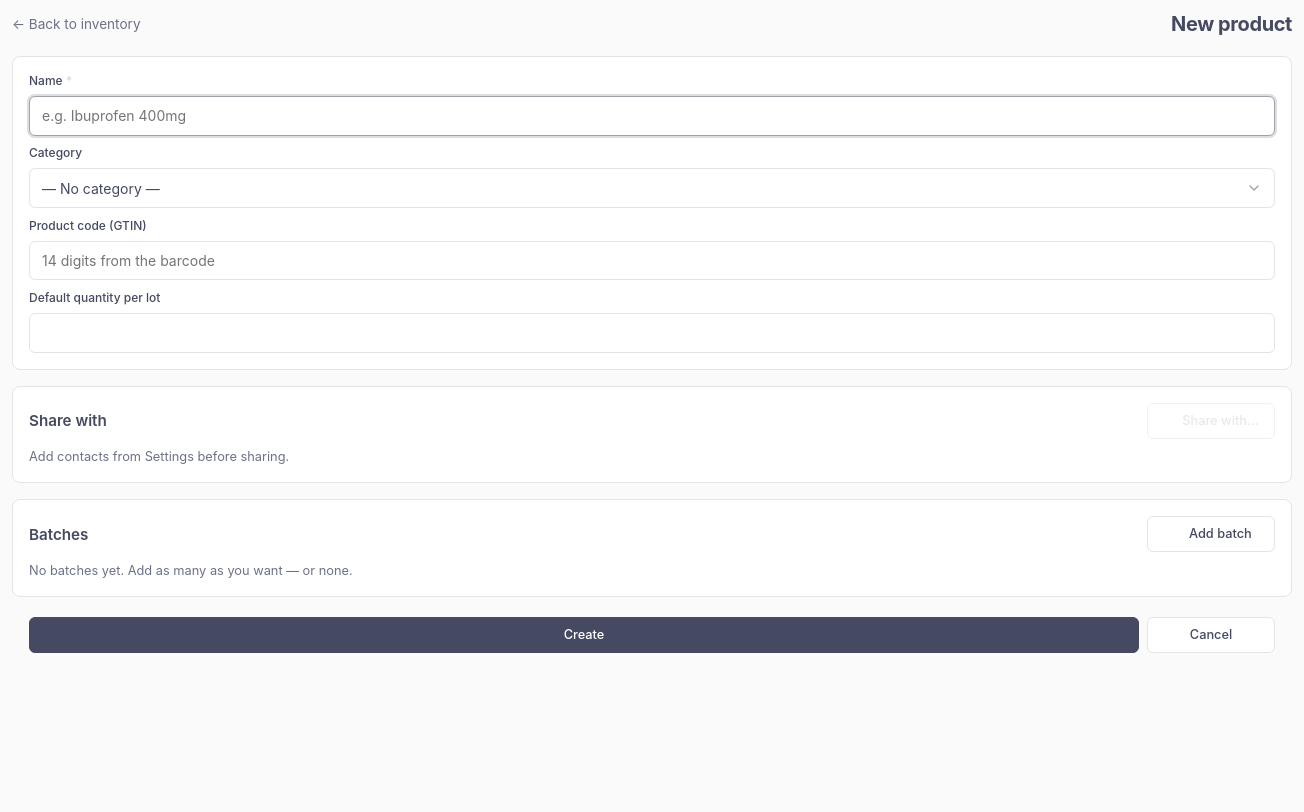
Test: StockFormPage — create error paths › surfaces a generic error when the stock create responds without an id
Type "NoId" into the field with placeholder "e.g. Ibuprofen 400mg" at point(652, 116), box left=29, top=96, right=1275, bottom=136
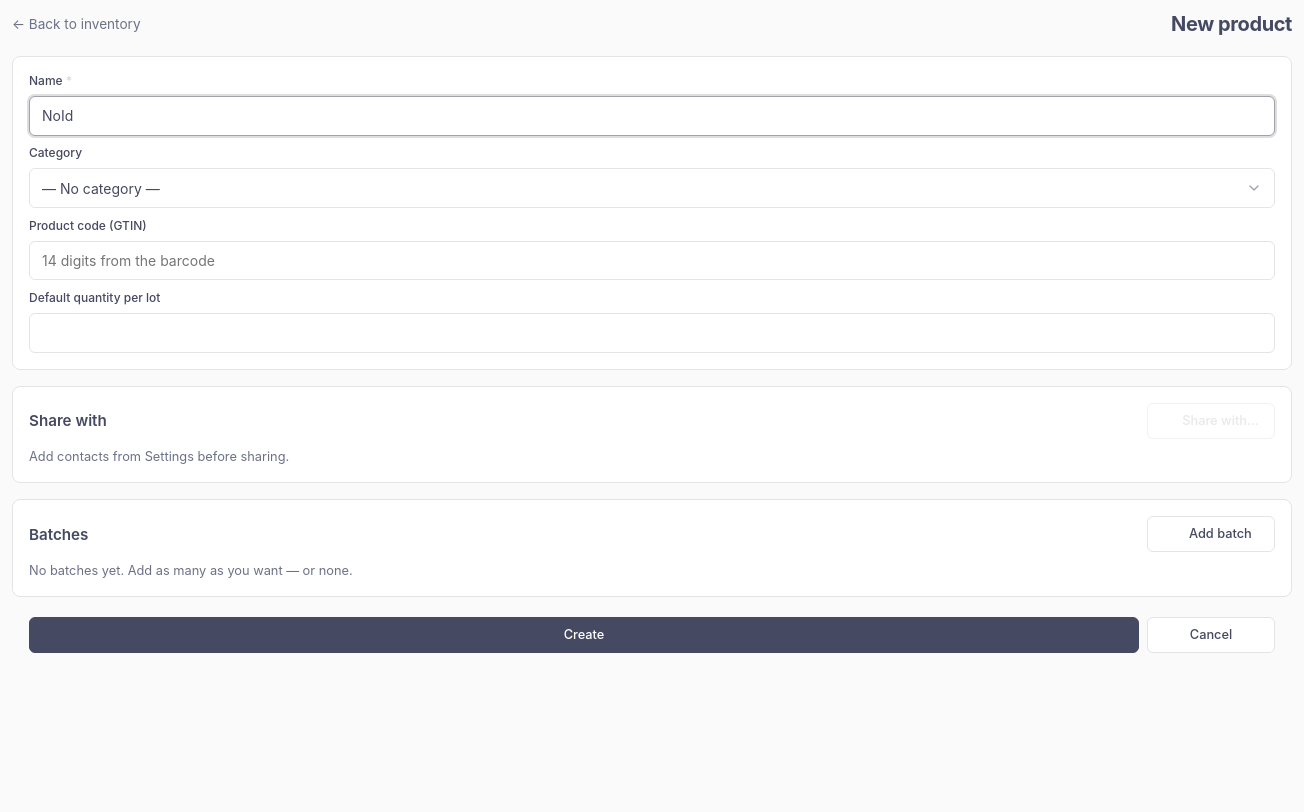
Click the button "Create" at point(584, 635), box left=29, top=617, right=1139, bottom=653
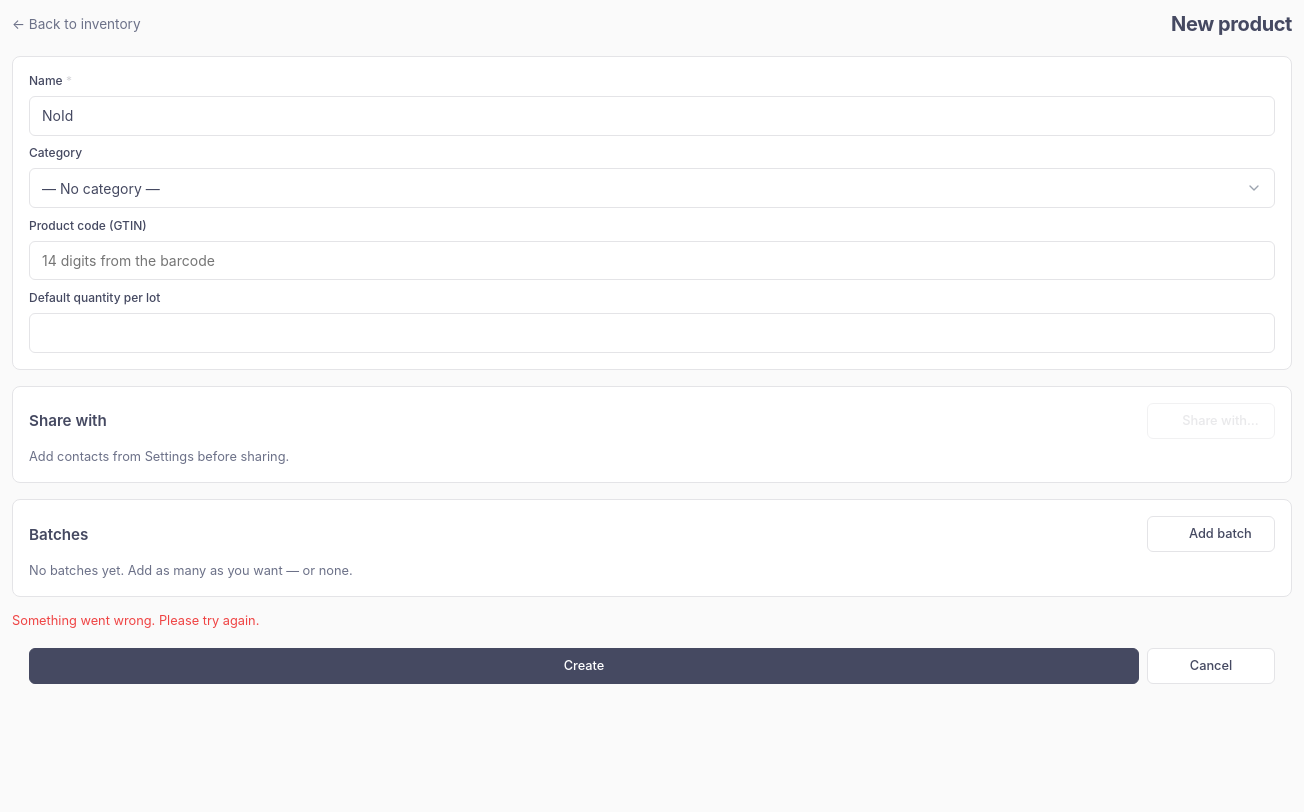
Expected: the text "Something went wrong. Please try again." is shown, left=12, top=613, right=259, bottom=628
